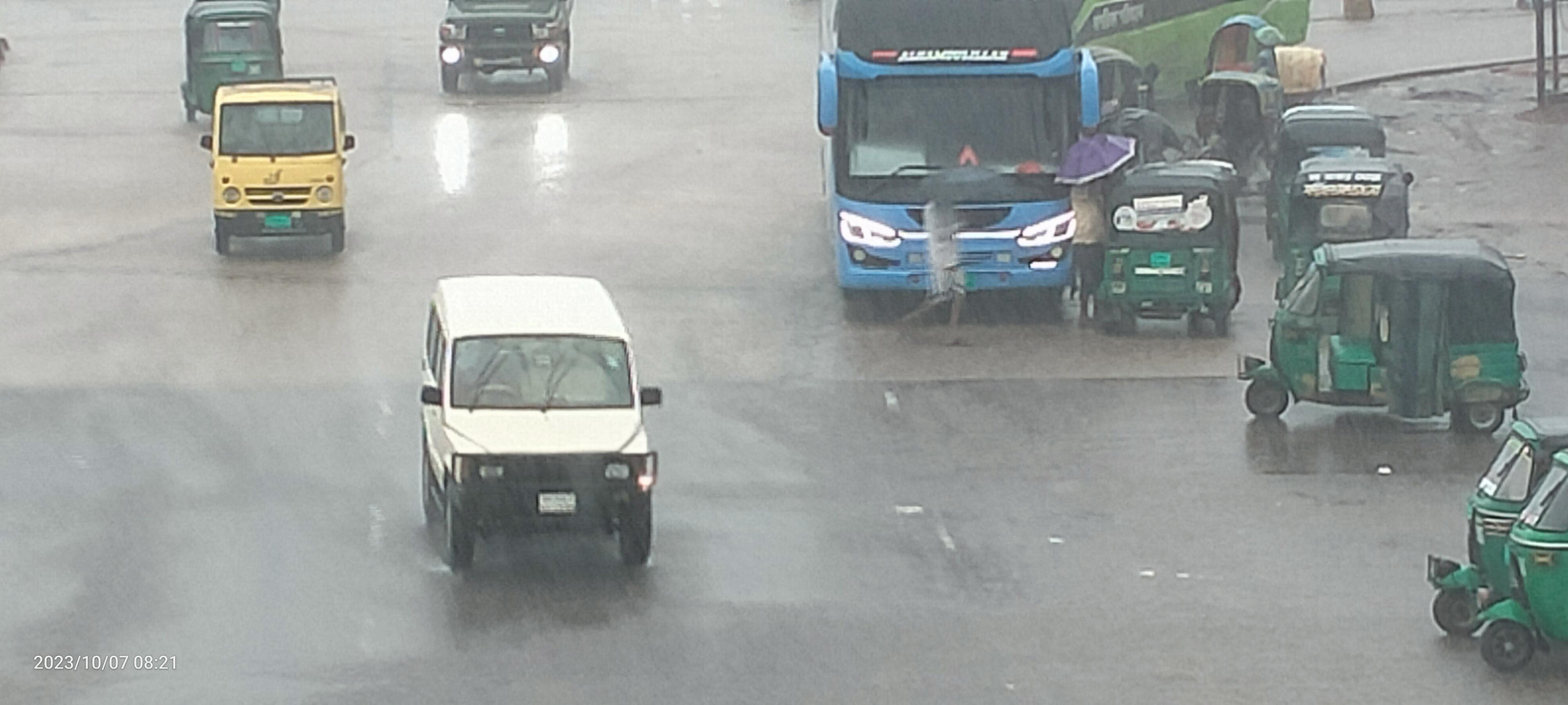Bus: (787, 0, 1129, 357), (1035, 0, 1352, 139)
Car: (383, 252, 706, 591), (401, 0, 612, 116)
Truck: (187, 63, 373, 277)
